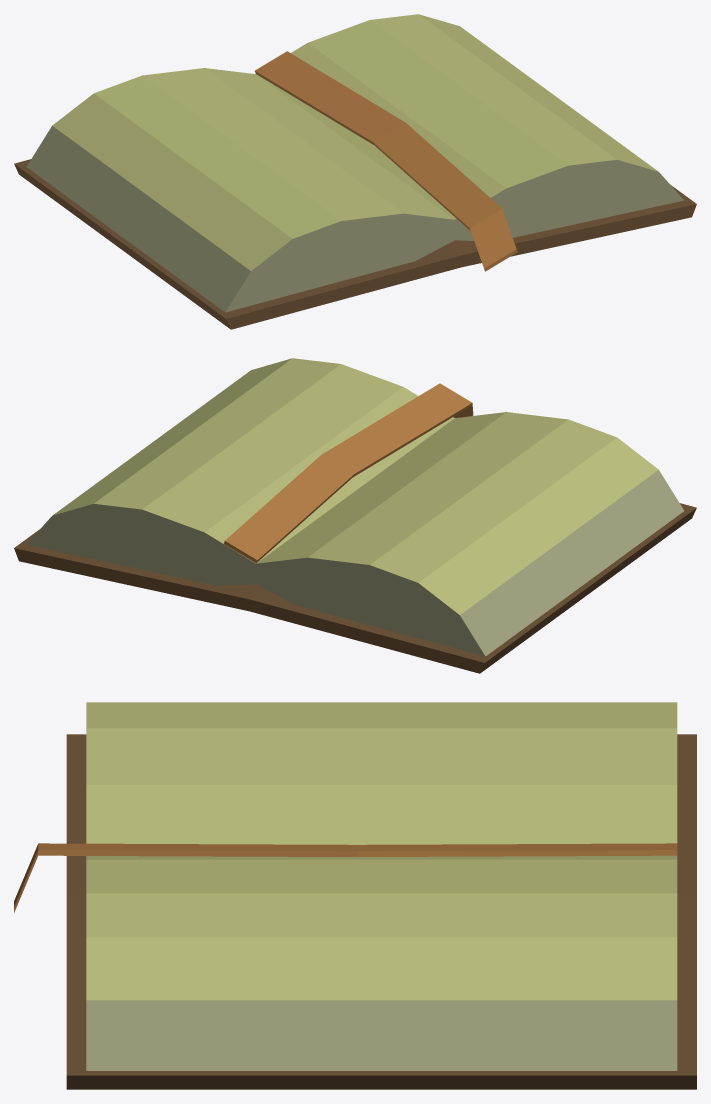
Rendered from Book_3_Brown.fbx.
3 views of the same model, one above another, from view 1: azimuth 30°, elevation 25°; view 2: azimuth 150°, elevation 25°; view 3: azimuth 270°, elevation 25° (orthographic). The views are drawn at different scales.
Parts seen in each view (by area): view 1: Book_3_Brown_Part_2, Book_3_Brown_Part_1, Book_3_Brown_Part_4, Book_3_Brown_Part_3; view 2: Book_3_Brown_Part_2, Book_3_Brown_Part_1, Book_3_Brown_Part_3, Book_3_Brown_Part_4; view 3: Book_3_Brown_Part_2, Book_3_Brown_Part_1, Book_3_Brown_Part_3, Book_3_Brown_Part_4.
Part boxes in pixels (<box>): Book_3_Brown_Part_2: <box>52,14,657,270</box>; Book_3_Brown_Part_1: <box>26,126,684,312</box>; Book_3_Brown_Part_4: <box>255,51,517,271</box>; Book_3_Brown_Part_3: <box>14,159,696,329</box>; Book_3_Brown_Part_2: <box>53,358,658,614</box>; Book_3_Brown_Part_1: <box>26,470,684,656</box>; Book_3_Brown_Part_3: <box>14,503,696,673</box>; Book_3_Brown_Part_4: <box>224,383,473,563</box>; Book_3_Brown_Part_2: <box>86,702,677,1000</box>; Book_3_Brown_Part_1: <box>86,1000,677,1070</box>; Book_3_Brown_Part_3: <box>66,734,696,1089</box>; Book_3_Brown_Part_4: <box>14,843,677,912</box>.
Size of the model in its own units: 41 by 6.27 by 34.68.
